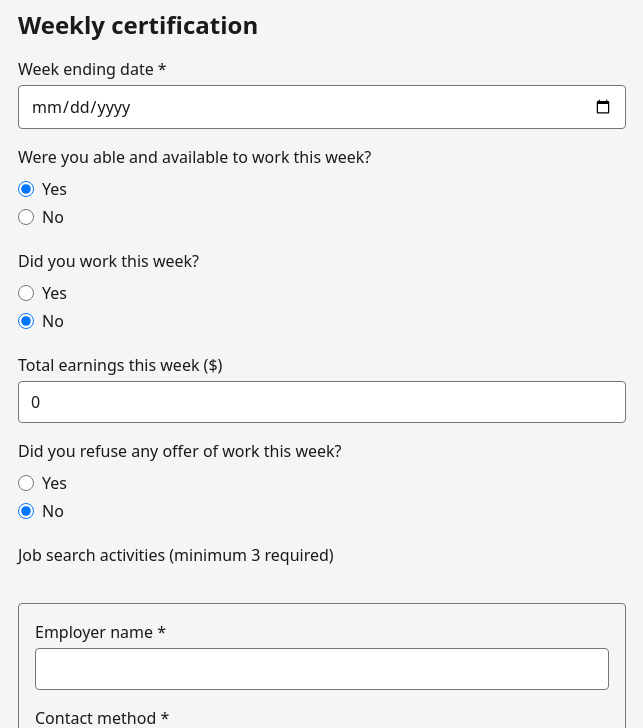
Test: CertifyPage marketplace prefill › shows a visible (non-blocking) status, not an alert banner, when the prefill fetch fails
Type "2026-08-15" into the date field labelled "Week ending date *". click: x=322, y=107
box: [18, 85, 626, 129]
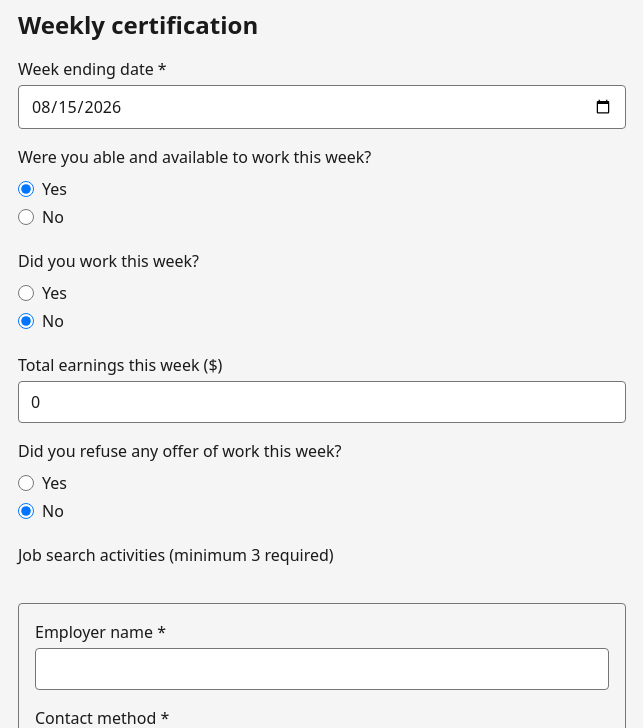
Leave the date field labelled "Week ending date *", box [18, 85, 626, 129]
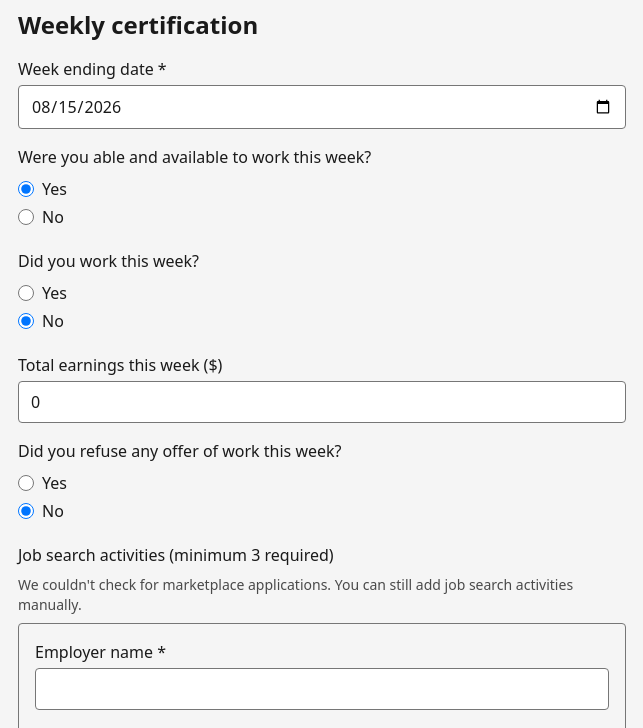
Expected: the field labelled "Employer name *" is shown, [35, 668, 609, 710]
Expected: the text "We couldn't check for marketplace applications. You can still add job search activities manually." is shown, [18, 575, 573, 614]
